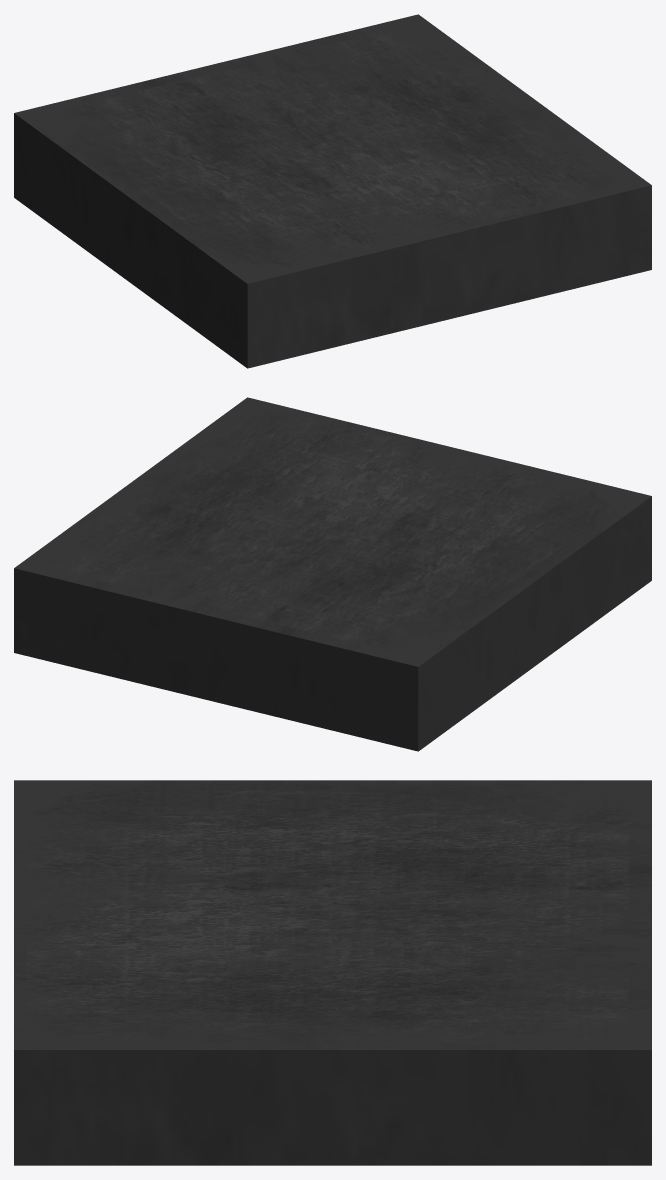
Rendered from Dark_Platform_Celling.fbx.
3 views of the same model, one above another, from view 1: azimuth 30°, elevation 25°; view 2: azimuth 150°, elevation 25°; view 3: azimuth 270°, elevation 25° (orthographic). The views are drawn at different scales.
Visible parts, largest first — view 1: Dark_Platform_Celling; view 2: Dark_Platform_Celling; view 3: Dark_Platform_Celling.
Boxes of the visible parts, x1,y1,x2,y2 form: Dark_Platform_Celling: (14,14,651,368); Dark_Platform_Celling: (14,397,651,751); Dark_Platform_Celling: (14,780,651,1165).
Size of the model in its own units: 150 by 30 by 150.
Materials: 1 (1 with a texture image).
